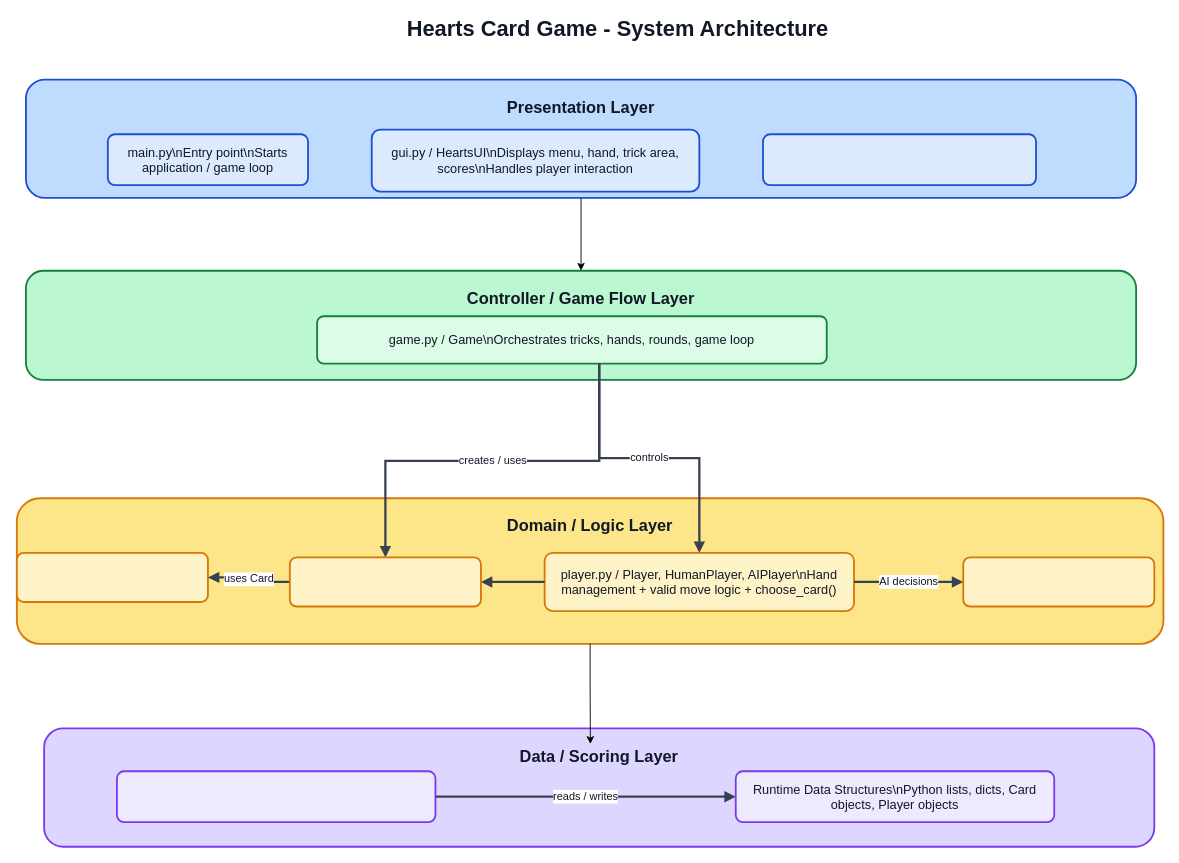
Some shapes in this 1179 by 863 pixel diagram are drawn without their labels. The shapes that lost their labels are listed below. From the top down, each one's box as (x1, y1, x2, y2) in pixels, then its label:
(762, 133, 1036, 186): User Input / Output\nCard selection, turn prompts, score display
(15, 551, 208, 602): card.py / Card\nStores suit, rank, value
(288, 556, 481, 607): deck.py / Deck\nCreates, shuffles, deals deck
(962, 556, 1155, 607): AI Strategy Rules\nAutomatic card selection
(116, 770, 436, 823): score_manager.py / ScoreManager\nPenalty scores, shoot the moon, winner check
